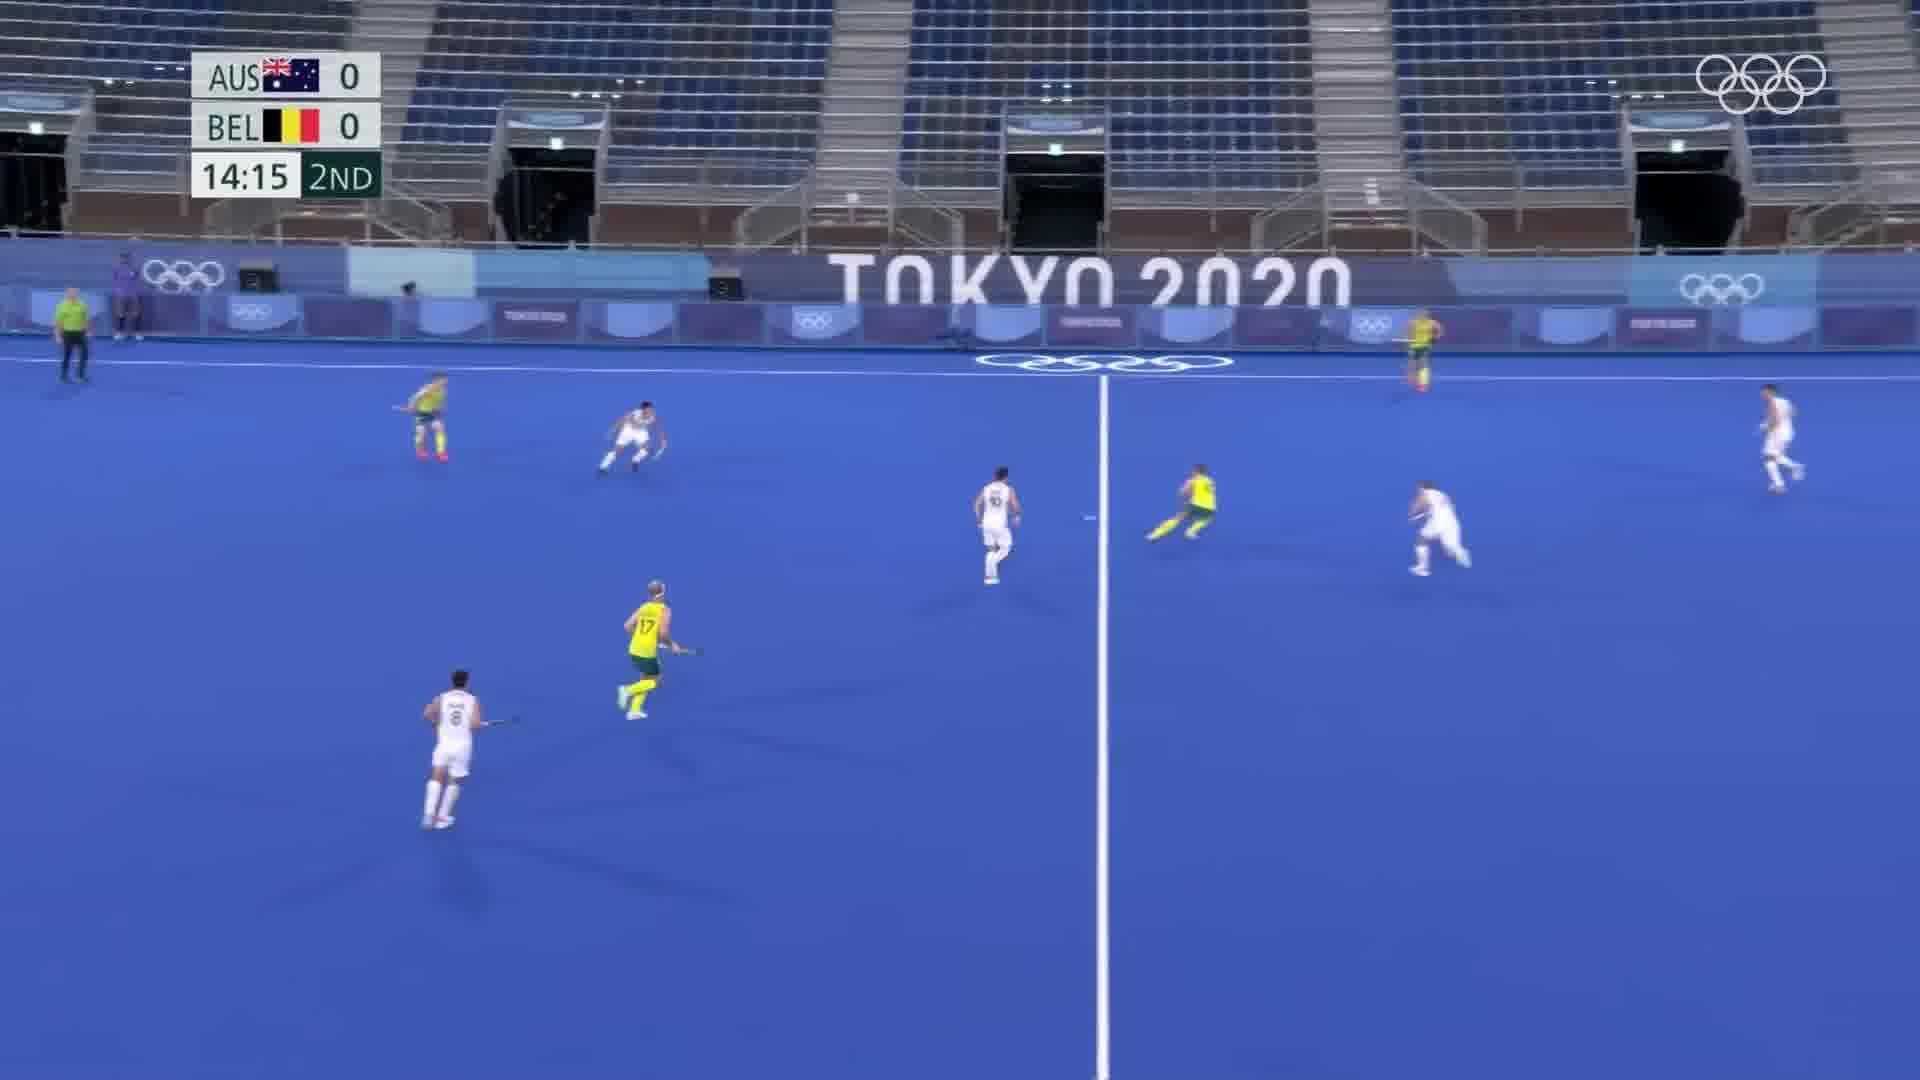ball: (1080, 506, 1097, 527)
